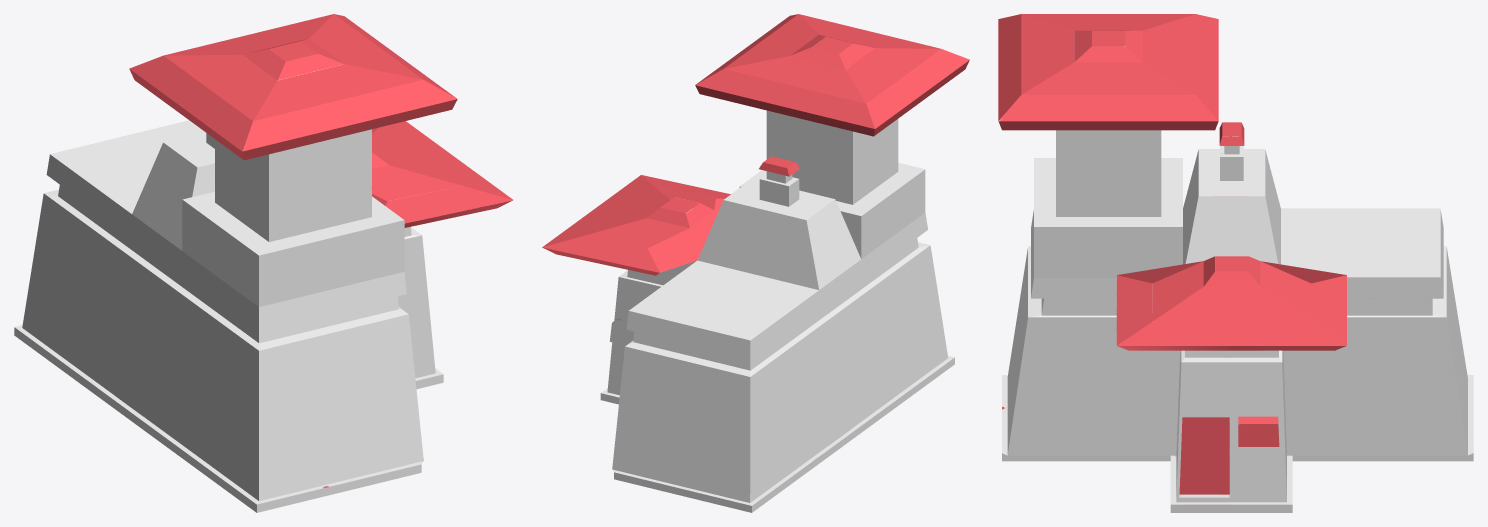
File: POSToffice3.fbx
The picture shows the model from 3 angles, left to right: view 1: azimuth 30°, elevation 25°; view 2: azimuth 150°, elevation 25°; view 3: azimuth 270°, elevation 25°; orthographic projection. The views are drawn at different scales.
Parts seen in each view (by area): view 1: PostOffice; view 2: PostOffice; view 3: PostOffice.
Part boxes in pixels (x1,y1,x2,y2): PostOffice: [14, 14, 513, 512]; PostOffice: [542, 14, 969, 512]; PostOffice: [998, 14, 1473, 512].
Size of the model in its own units: 11.01 by 12.64 by 14.04.
